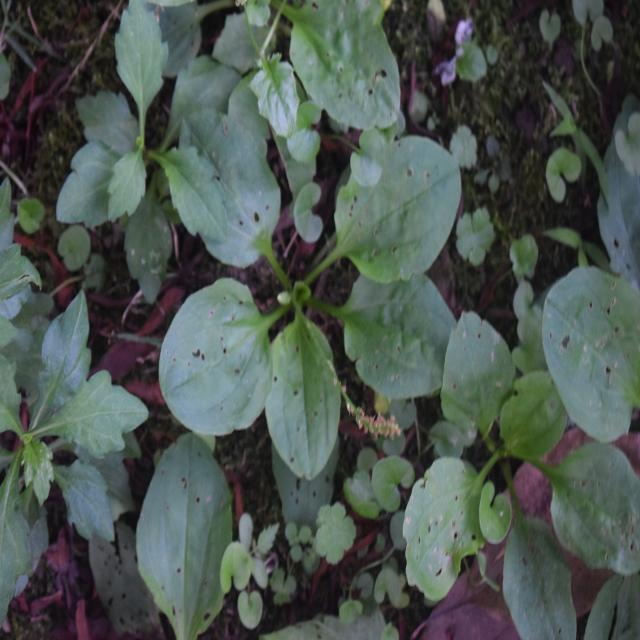plantain: (158, 104, 472, 469), (403, 320, 640, 605)
